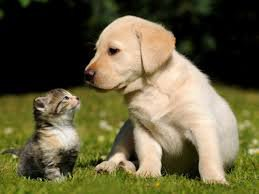cat: (11, 82, 95, 186)
dog: (81, 11, 248, 188)
